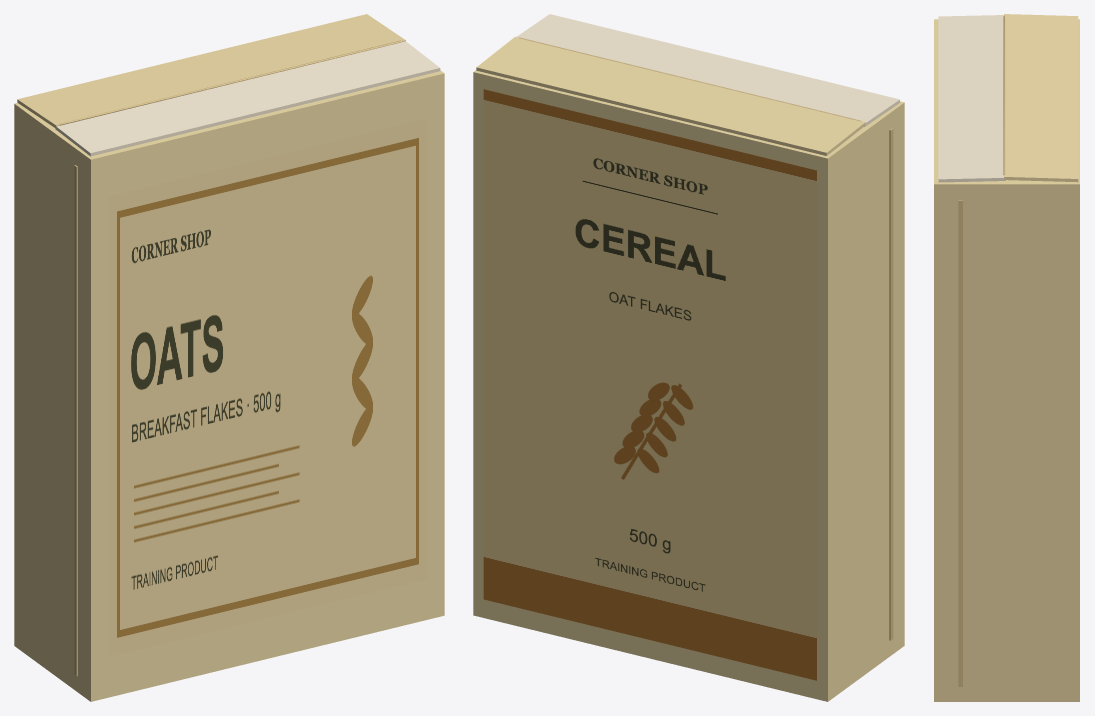
Rendered from cereal.glb.
3 renders of one model, left to right at view 1: azimuth 30°, elevation 25°; view 2: azimuth 150°, elevation 25°; view 3: azimuth 270°, elevation 25°, orthographic. The views are drawn at different scales.
Parts seen in each view (by area): view 1: library-cereal-cereal-back-label, library-cereal-product-cereal-cardboard, library-cereal-cereal-back-top-flap, library-cereal-product-cereal-fold-edges; view 2: library-cereal-cereal-front-label, library-cereal-product-cereal-cardboard, library-cereal-cereal-back-top-flap, library-cereal-product-cereal-fold-edges; view 3: library-cereal-product-cereal-cardboard, library-cereal-cereal-back-top-flap, library-cereal-product-cereal-fold-edges.
Boxes of the visible parts, x1,y1,x2,y2 form: library-cereal-cereal-back-label: (109,119,426,656); library-cereal-product-cereal-cardboard: (14,14,444,701); library-cereal-cereal-back-top-flap: (55,41,440,156); library-cereal-product-cereal-fold-edges: (60,40,401,676); library-cereal-cereal-front-label: (483,89,816,680); library-cereal-product-cereal-cardboard: (473,36,904,701); library-cereal-cereal-back-top-flap: (517,14,899,126); library-cereal-product-cereal-fold-edges: (519,37,893,640); library-cereal-product-cereal-cardboard: (934,14,1079,701); library-cereal-cereal-back-top-flap: (938,15,1005,182); library-cereal-product-cereal-fold-edges: (958,15,1005,686).
Bounding box in the file's own units: 0.1693 × 0.2492 × 0.0634.
Materials: 5 (2 with a texture image).
